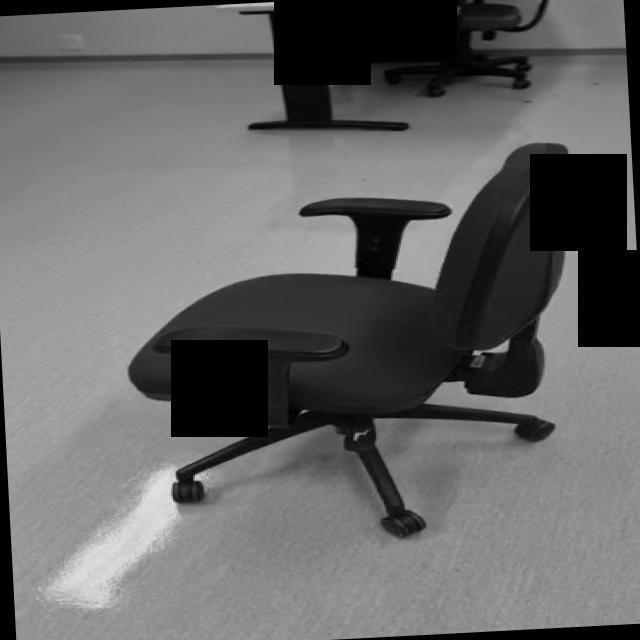chair: (121, 142, 590, 550)
